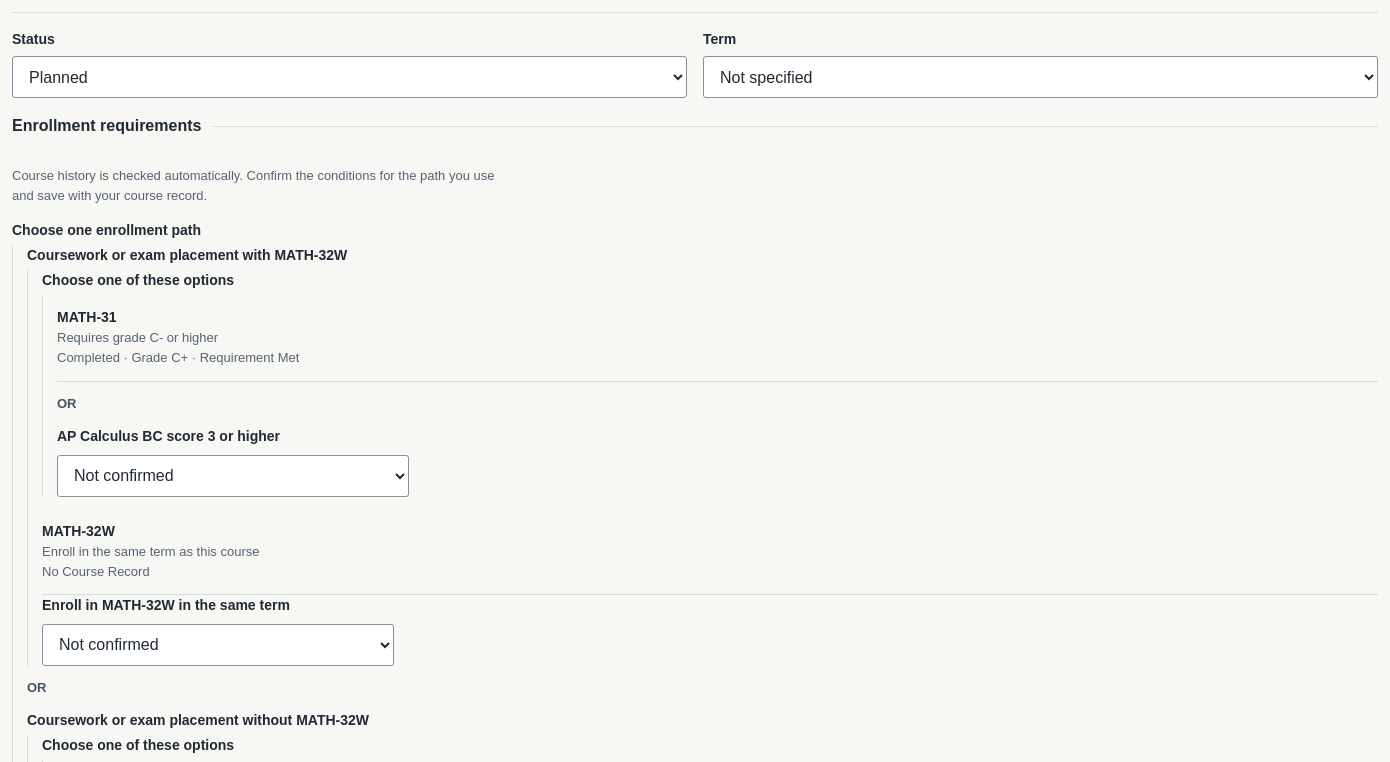
Scenario: RecordEditor › groups alternative enrollment paths and saves only the workshop answer for a qualifying C+
Expected: the text "completed · Grade C+ · Requirement met" is shown, [57,348,299,368]
Select "I meet this requirement" in the dropdown labelled "Enroll in MATH-32W in the same term" at (218, 645), box [42,624,394,666]
(page scrolled)
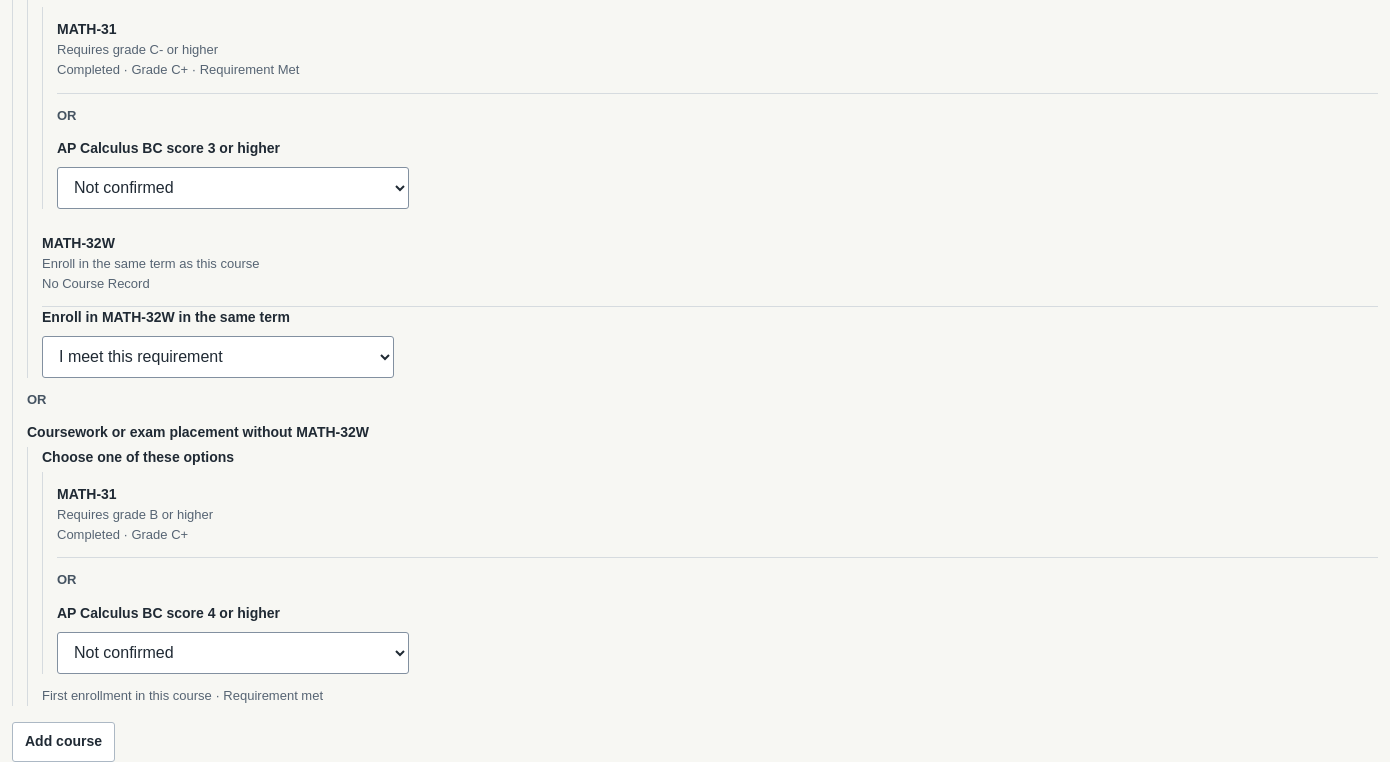
Expected: the dropdown labelled "AP Calculus BC score 3 or higher" shows "Not confirmed", [57,167,409,209]
Expected: the dropdown labelled "AP Calculus BC score 4 or higher" shows "Not confirmed", [57,632,409,674]
Click the button "Add course" at (64, 742), box [12,722,115,761]
(page scrolled)
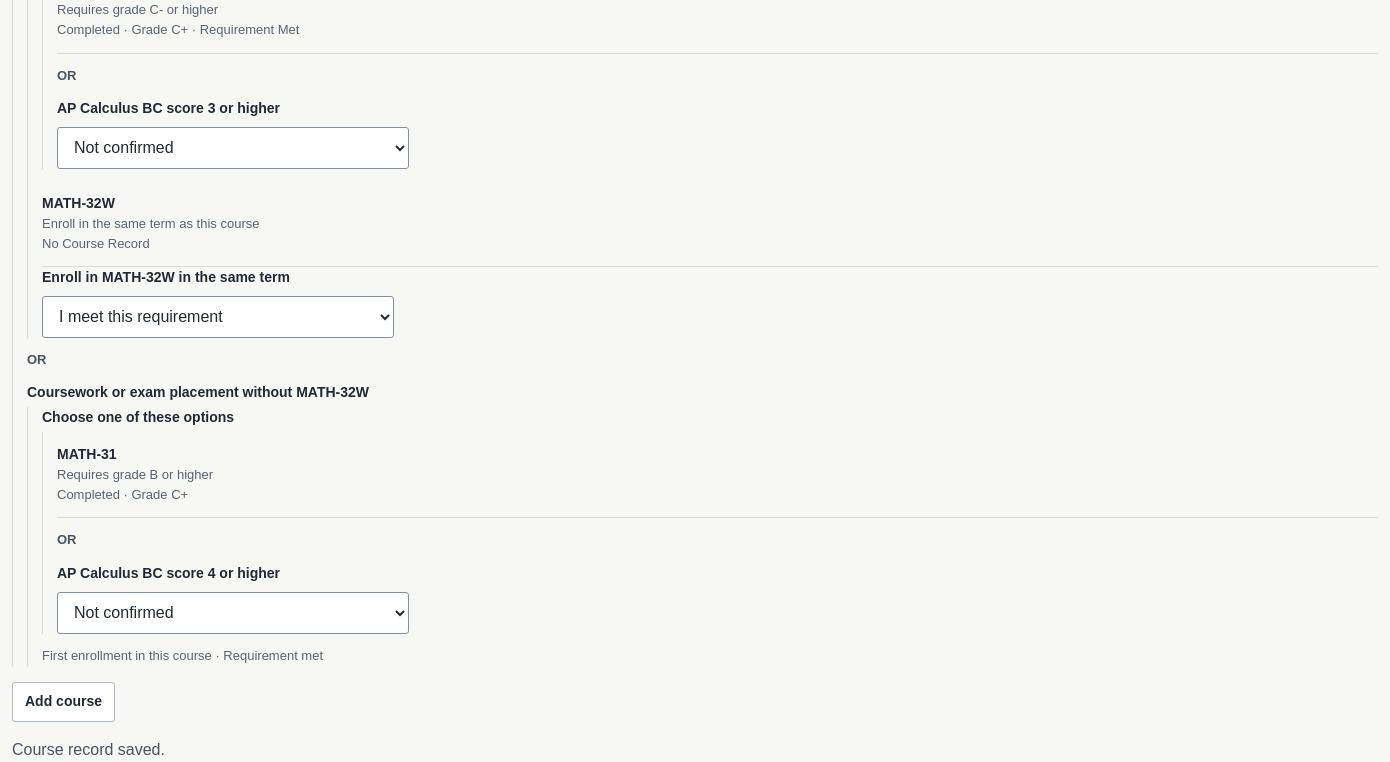
Expected: the text "Course record saved." is shown, [12,741,165,758]
